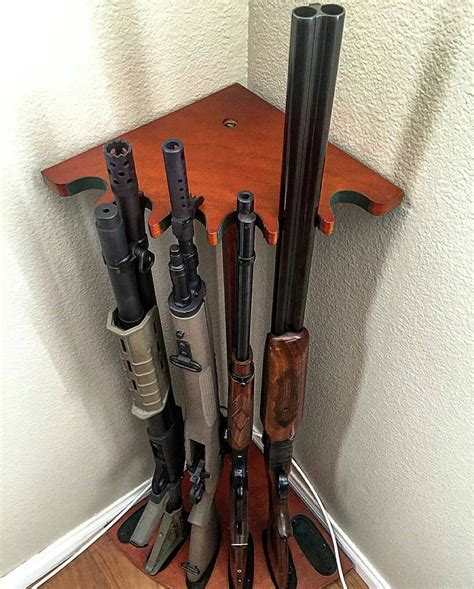gun: (260, 5, 346, 589), (94, 137, 185, 548), (161, 139, 222, 589), (224, 188, 257, 587)
